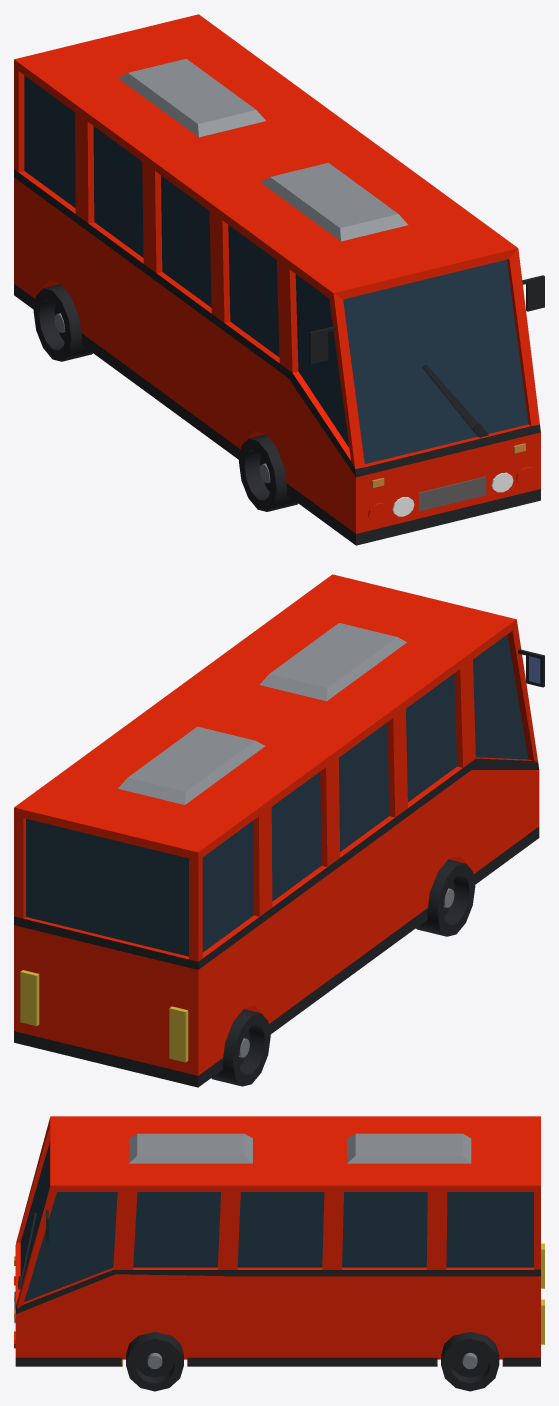
File: Bus_2.fbx
The picture shows the model from 3 angles, top to bottom: view 1: azimuth 30°, elevation 25°; view 2: azimuth 150°, elevation 25°; view 3: azimuth 270°, elevation 25°; orthographic projection. The views are drawn at different scales.
Visible parts, largest first — view 1: Bus_2; view 2: Bus_2; view 3: Bus_2.
Boxes of the visible parts, <box> form: Bus_2: <box>14,14,544,545</box>; Bus_2: <box>14,574,544,1087</box>; Bus_2: <box>14,1116,544,1391</box>.
Bounding box in the file's own units: 323 × 360 × 827.
